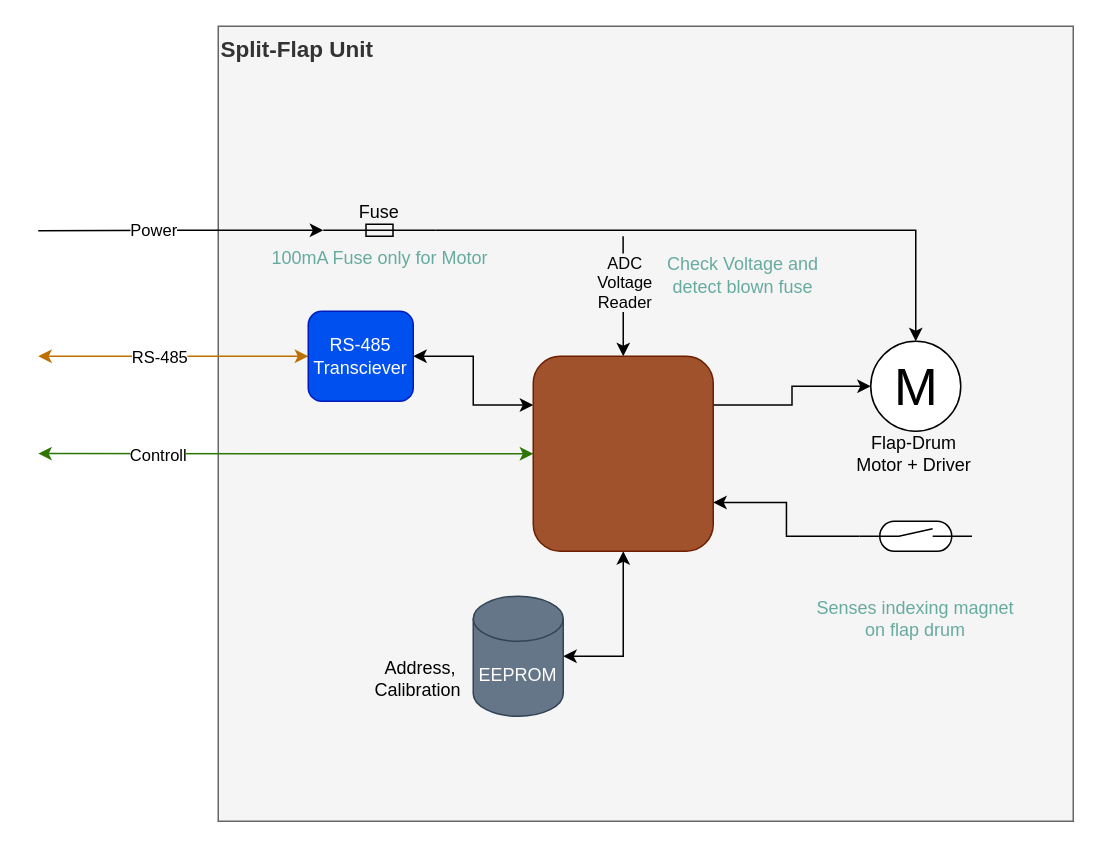
This 1100x848 diagram has some shape labels left out. The shapes that lost their labels are listed below. From the top down, each one's centre as x and y in pixels, then its label:
the point at 622,453: MCU
the point at 915,535: Home Sensor
